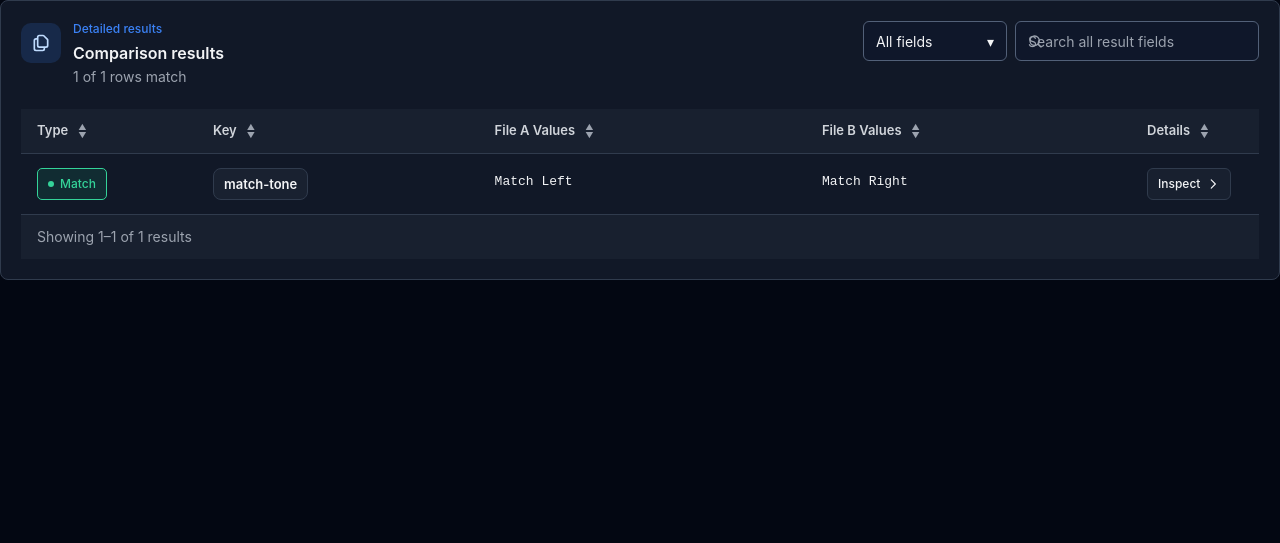
uses reusable detail value boxes on both sides for matched inspection rows
Click the button "Inspect" at coordinates (1189, 184), box [1147,168,1231,200]
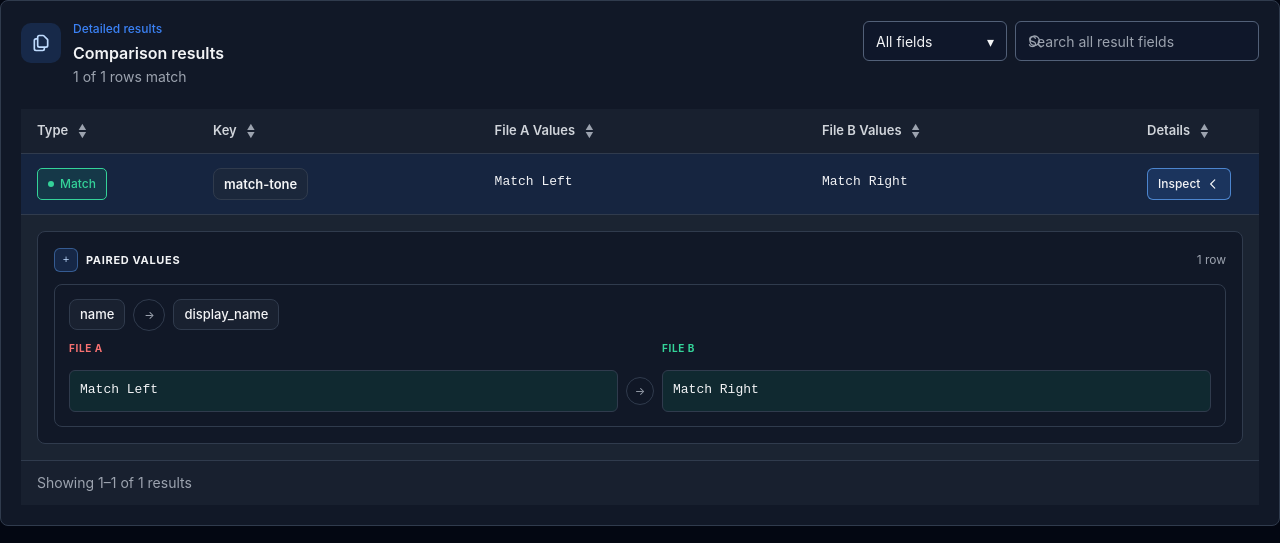
Expected: the text titled "Match Left" below "display_name" is shown, [69,370,618,412]
Expected: the 2nd text titled "Match Right" is shown, [662,370,1211,412]
